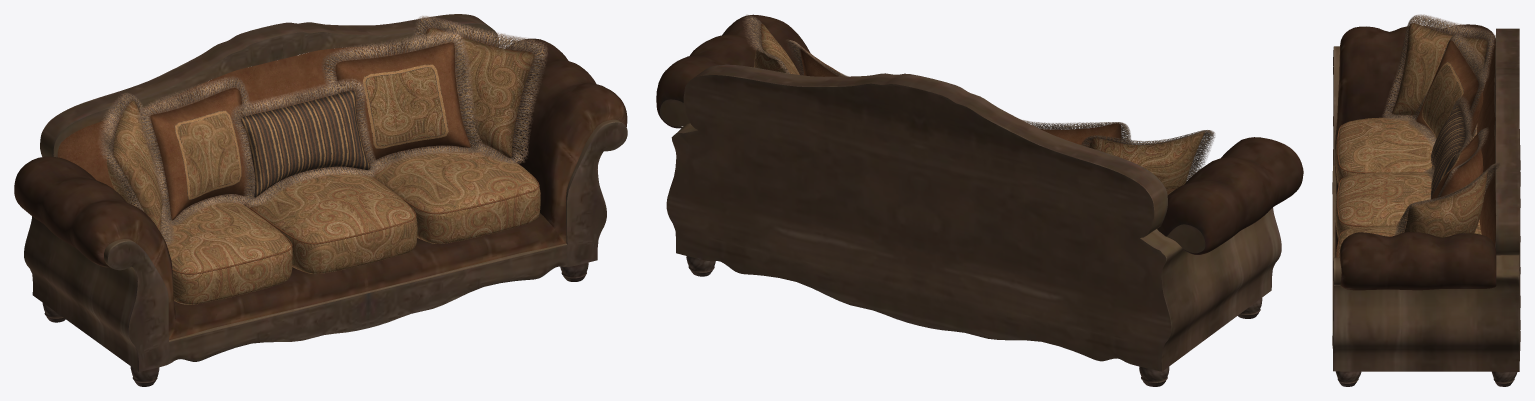
Rendered from sheenwoodleathersofa.glb.
3 views of the same model, side by side, from view 1: azimuth 30°, elevation 25°; view 2: azimuth 150°, elevation 25°; view 3: azimuth 270°, elevation 25° (orthographic). The views are drawn at different scales.
Parts seen in each view (by area): view 1: Frame, Paisley, Fringe, Brown, Stripes, Frame_Fabric; view 2: Frame, Paisley, Fringe, Brown; view 3: Frame, Paisley, Fringe, Brown, Frame_Fabric, Stripes.
Boxes of the visible parts, x1,y1,x2,y2 form: Frame: (14, 14, 627, 386); Paisley: (107, 27, 540, 304); Fringe: (98, 16, 547, 246); Brown: (150, 42, 539, 274); Stripes: (174, 64, 448, 199); Frame_Fabric: (57, 34, 494, 189); Frame: (656, 14, 1303, 386); Paisley: (754, 23, 1204, 194); Fringe: (743, 14, 1215, 181); Brown: (800, 46, 1121, 147); Frame: (1332, 24, 1520, 386); Paisley: (1335, 23, 1487, 257); Fringe: (1382, 14, 1499, 235); Brown: (1337, 40, 1483, 257); Frame_Fabric: (1477, 39, 1495, 245); Stripes: (1422, 61, 1472, 198).
Size of the model in its own units: 2.73 by 1.12 by 0.9231.
6 materials, 6 textured.
